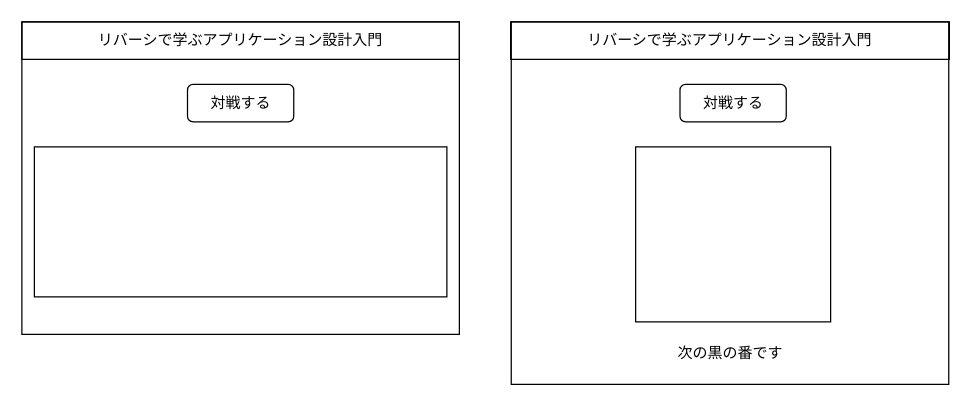
This 971x406 diagram has some shape labels left out. Each missing label, with the centre of its shape:
盤面: point (732, 234)
過去の対戦結果: point (240, 221)
